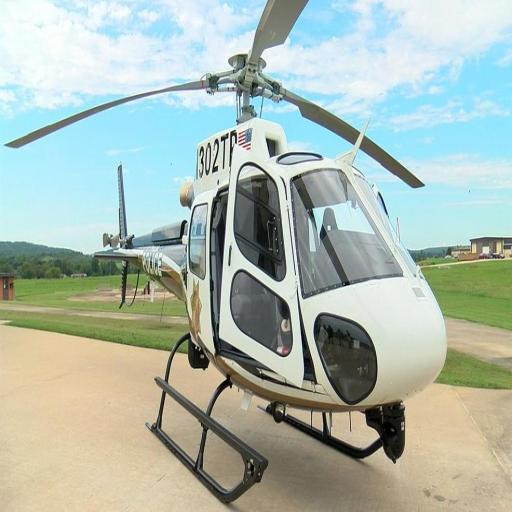helicopter: (87, 2, 455, 506)
